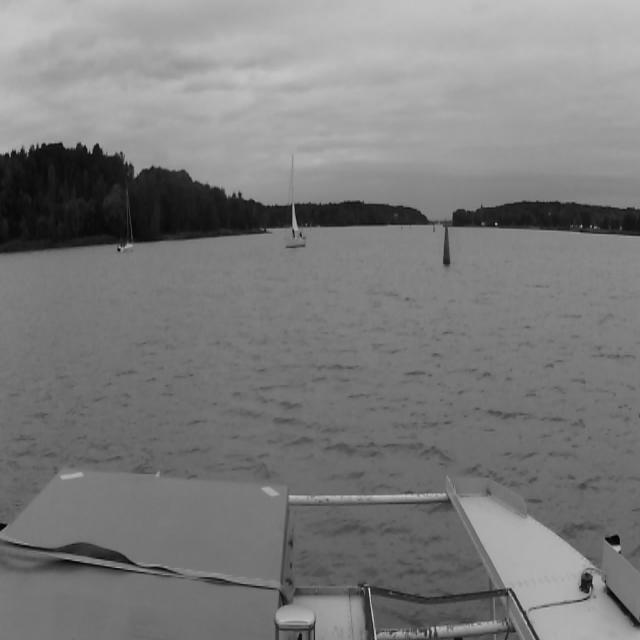buoy: (438, 212, 456, 262), (441, 221, 453, 275), (433, 220, 435, 234)
ship: (283, 150, 307, 252), (112, 171, 136, 253)
